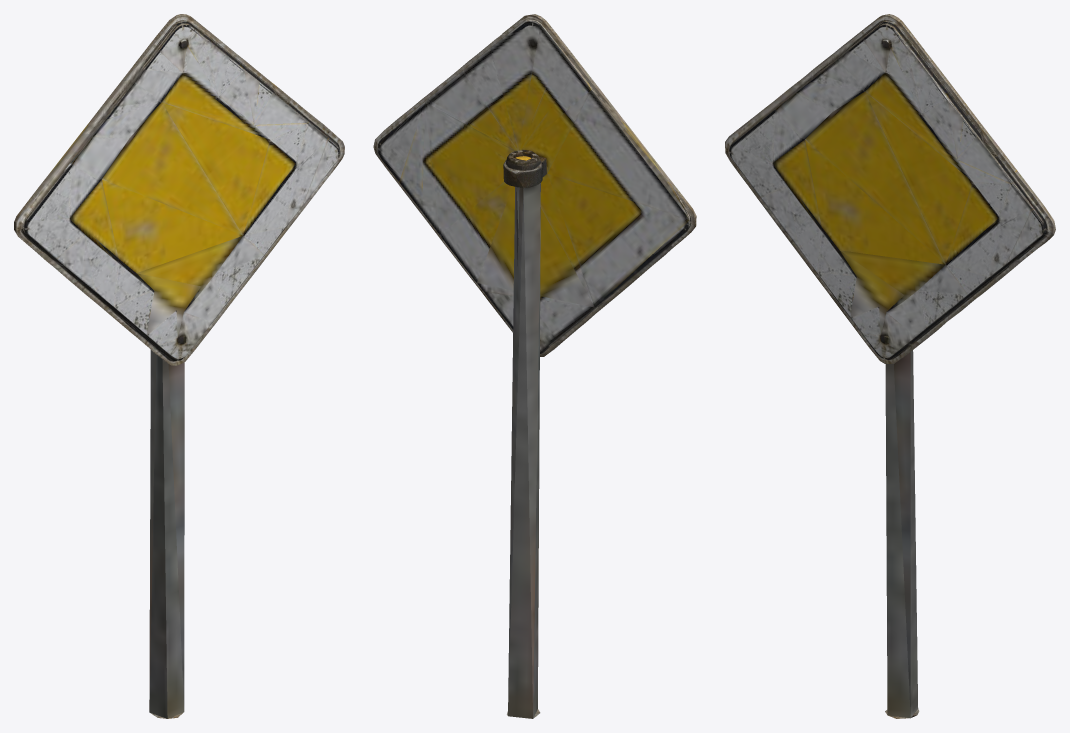
The model's file is Sign_Main_Road_1500.glb.
3 renders of one model, left to right at view 1: azimuth 30°, elevation 25°; view 2: azimuth 150°, elevation 25°; view 3: azimuth 330°, elevation 25°, orthographic. The views are drawn at different scales.
Visible parts, largest first — view 1: output_unwrapped; view 2: output_unwrapped; view 3: output_unwrapped.
Boxes of the visible parts, box(x1,y1,x2,y2) form: output_unwrapped: box(14, 14, 344, 718); output_unwrapped: box(373, 14, 696, 718); output_unwrapped: box(725, 14, 1055, 718).
Size of the model in its own units: 1.22 by 2.5 by 0.1828.
1 material, 1 textured.
